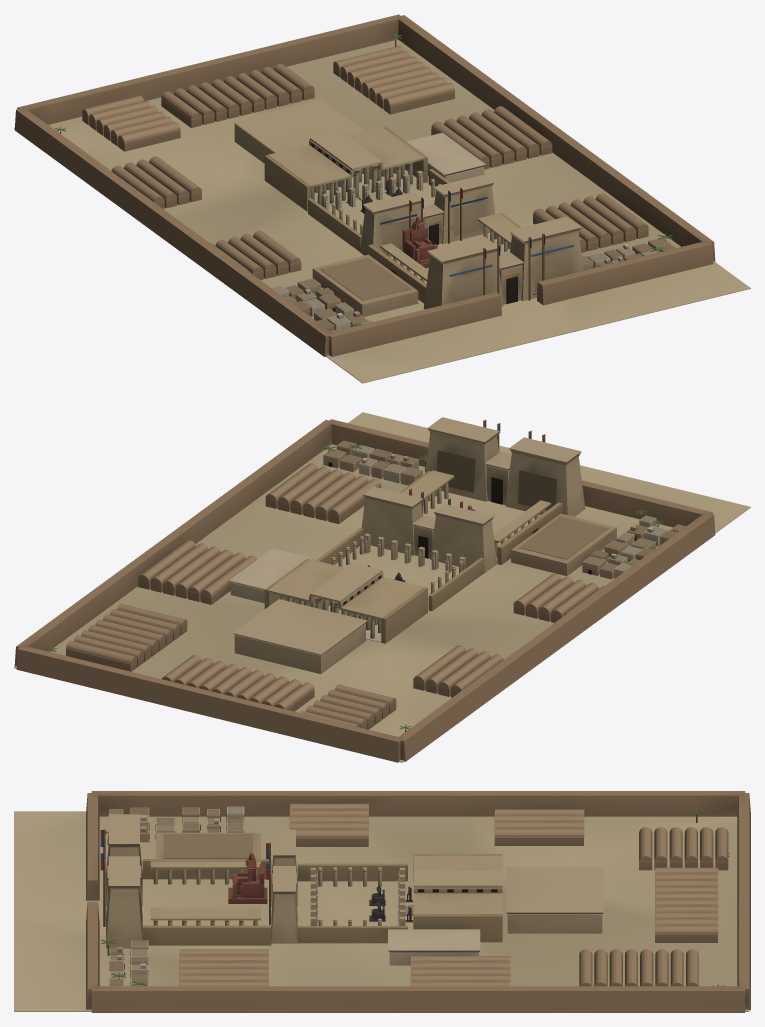
Rendered from ramesseum.glb.
3 views of the same model, one above another, from view 1: azimuth 30°, elevation 25°; view 2: azimuth 150°, elevation 25°; view 3: azimuth 270°, elevation 25° (orthographic). The views are drawn at different scales.
Parts seen in each view (by area): view 1: p0_magazines, p1_temple, p2_hypostyle, p3_trees; view 2: p0_magazines, p1_temple, p2_hypostyle, p3_trees; view 3: p0_magazines, p1_temple, p2_hypostyle, p3_trees.
Boxes of the visible parts, box(x1,y1,x2,y2) form: p0_magazines: box(14, 14, 750, 383); p1_temple: box(233, 99, 583, 316); p2_hypostyle: box(264, 126, 518, 281); p3_trees: box(54, 34, 675, 332); p0_magazines: box(14, 412, 750, 762); p1_temple: box(229, 417, 616, 673); p2_hypostyle: box(264, 470, 551, 643); p3_trees: box(44, 440, 685, 731); p0_magazines: box(14, 791, 750, 1012); p1_temple: box(100, 814, 603, 965); p2_hypostyle: box(150, 854, 502, 942); p3_trees: box(101, 806, 729, 986).
Bounding box in the file's own units: 181 × 28.33 × 281.
